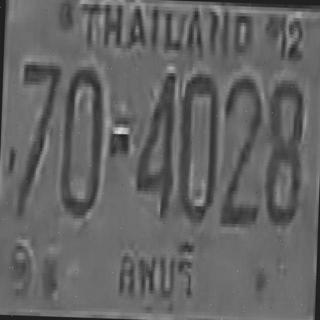N00: (58, 62, 103, 216), (176, 70, 218, 220)
N02: (219, 73, 262, 223)
N04: (134, 68, 176, 215)
N07: (15, 58, 60, 214)
N08: (263, 76, 302, 223)
P23: (114, 231, 202, 320)
